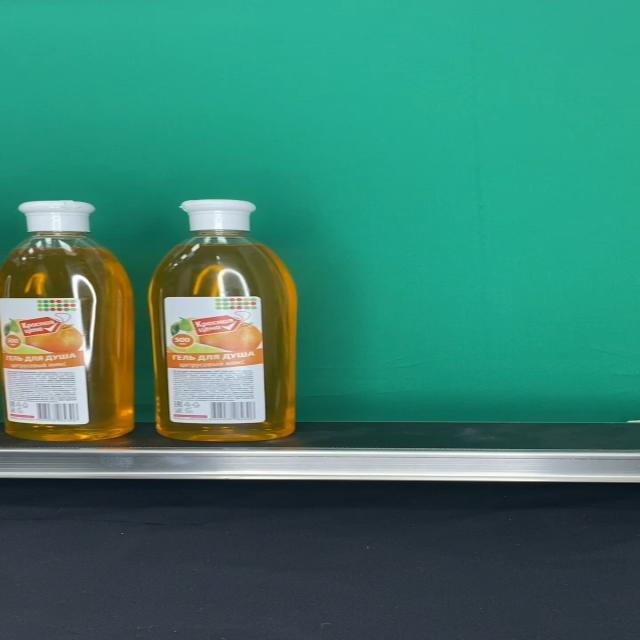Bottle: (149, 200, 297, 441), (0, 200, 134, 441)
Cap: (16, 200, 95, 232), (178, 200, 256, 232)
